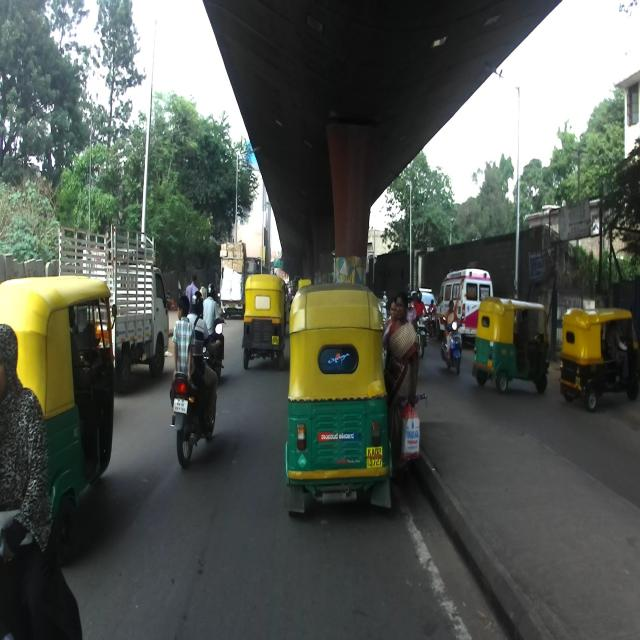autorickshaw: (0, 276, 119, 562), (284, 282, 394, 519), (558, 307, 640, 409), (472, 296, 549, 393), (242, 273, 288, 369)
mini-bus: (435, 268, 493, 341)
motorcycle: (170, 339, 219, 466), (413, 312, 430, 358), (379, 301, 386, 327), (290, 294, 294, 304), (284, 293, 288, 300), (288, 292, 291, 299)
scooter: (440, 314, 465, 375)
